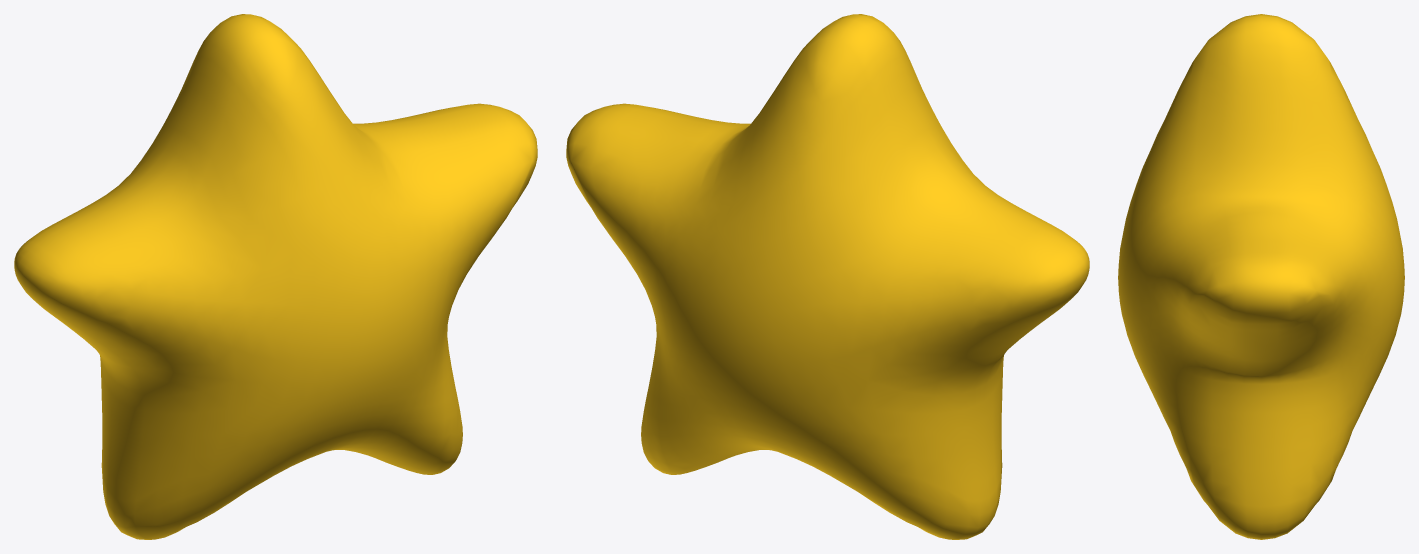
File: star.fbx
3 renders of one model, left to right at view 1: azimuth 30°, elevation 25°; view 2: azimuth 150°, elevation 25°; view 3: azimuth 270°, elevation 25°, orthographic. The views are drawn at different scales.
Parts seen in each view (by area): view 1: node_id5; view 2: node_id5; view 3: node_id5.
Boxes of the visible parts, x1,y1,x2,y2 form: node_id5: (14, 14, 537, 539); node_id5: (566, 14, 1089, 539); node_id5: (1118, 14, 1404, 539).
Size of the model in its own units: 4.1 by 3.82 by 2.24.
Materials: 1 (1 with a texture image).
